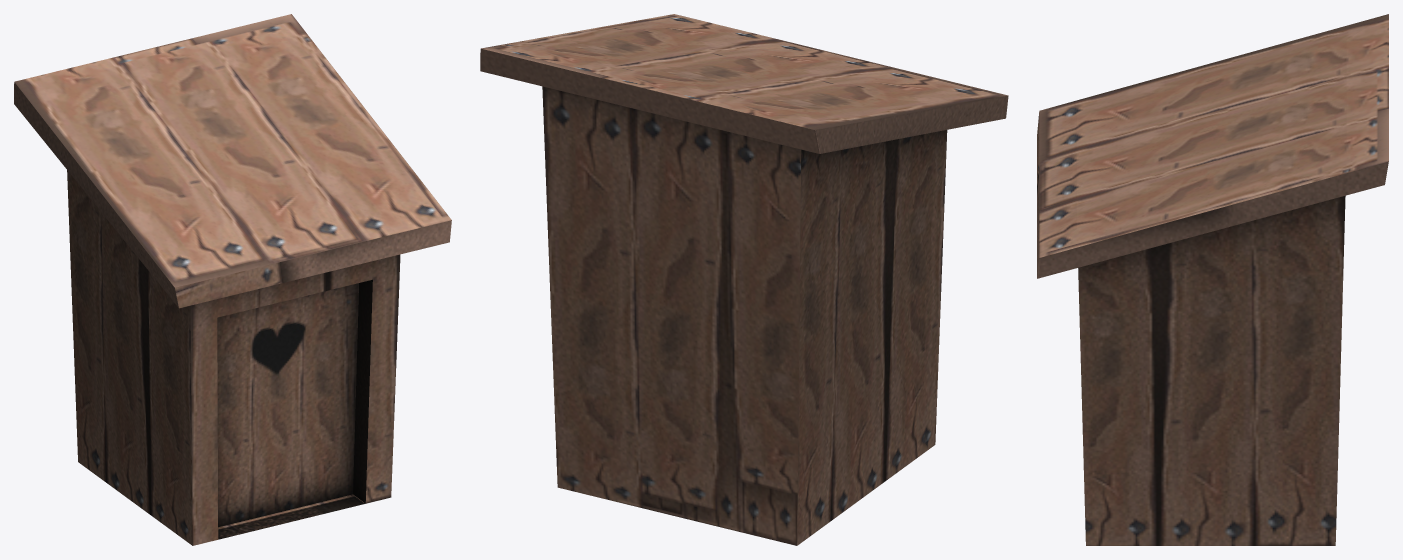
The model's file is Prop_Outhouse.FBX.
3 renders of one model, left to right at view 1: azimuth 30°, elevation 25°; view 2: azimuth 150°, elevation 25°; view 3: azimuth 270°, elevation 25°, orthographic. The views are drawn at different scales.
Parts seen in each view (by area): view 1: Box001; view 2: Box001; view 3: Box001.
Boxes of the visible parts, bbox=[...] form: Box001: bbox=[14, 14, 451, 545]; Box001: bbox=[480, 14, 1008, 545]; Box001: bbox=[1037, 14, 1388, 545].
Bounding box in the file's own units: 161 × 203 × 160.
